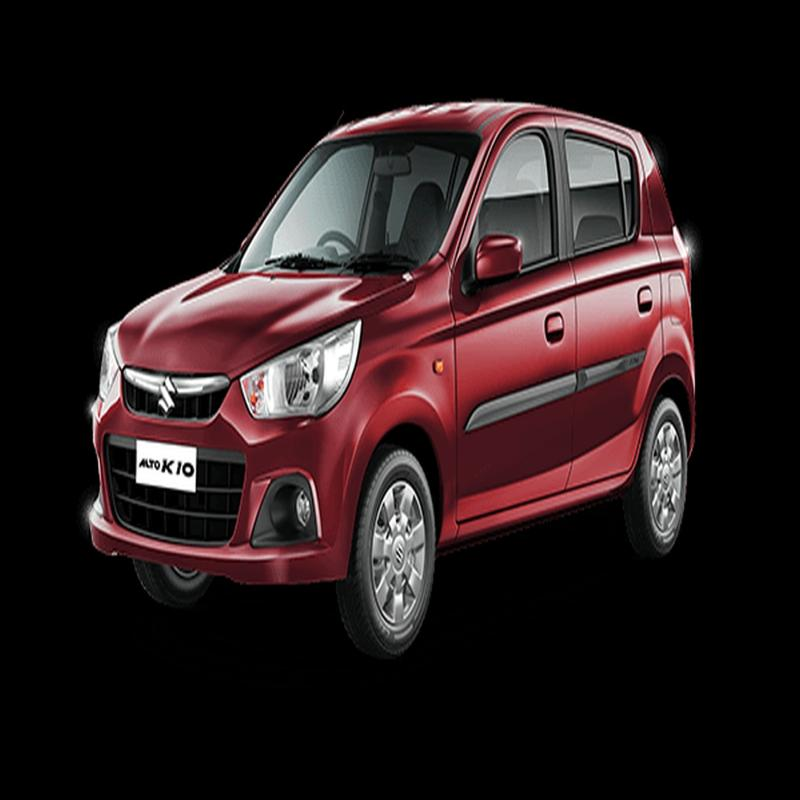car: (96, 118, 690, 636)
